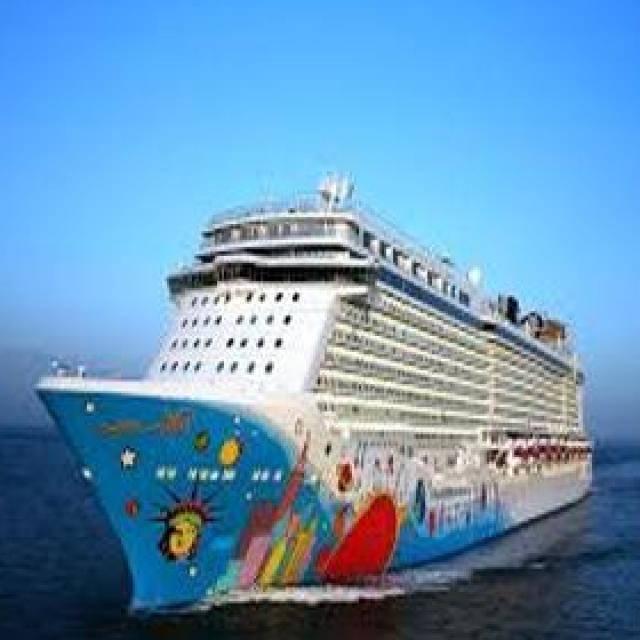passenger ship: (35, 176, 598, 614)
